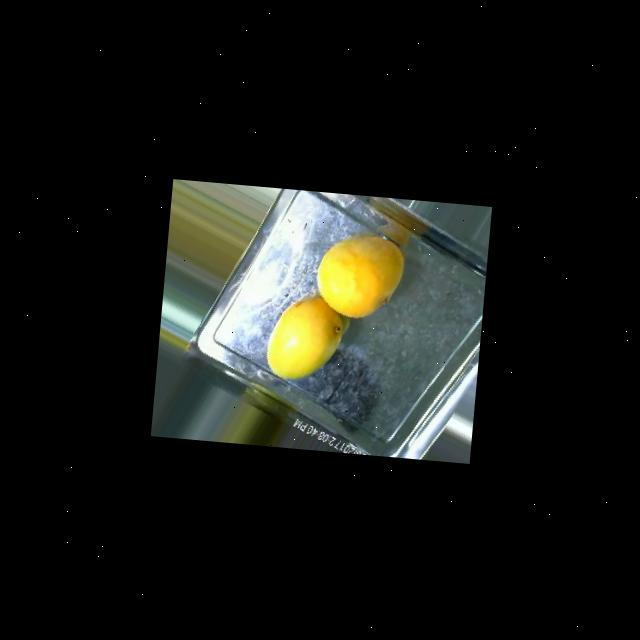Mango: (312, 230, 404, 322), (262, 292, 349, 384)
